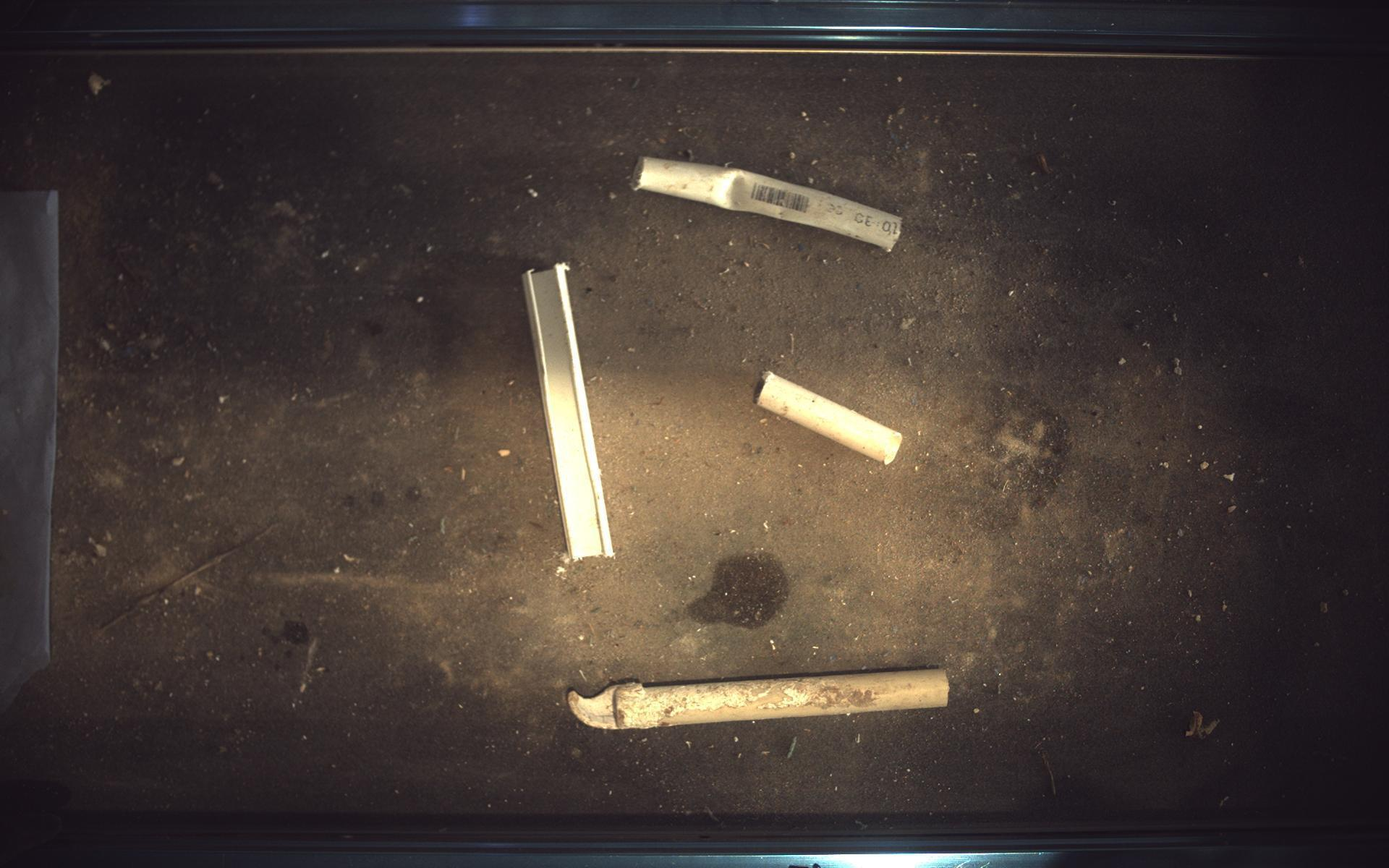pipes: (632, 156, 904, 250), (569, 670, 951, 731), (758, 373, 904, 465)
plastic: (523, 263, 614, 561)
